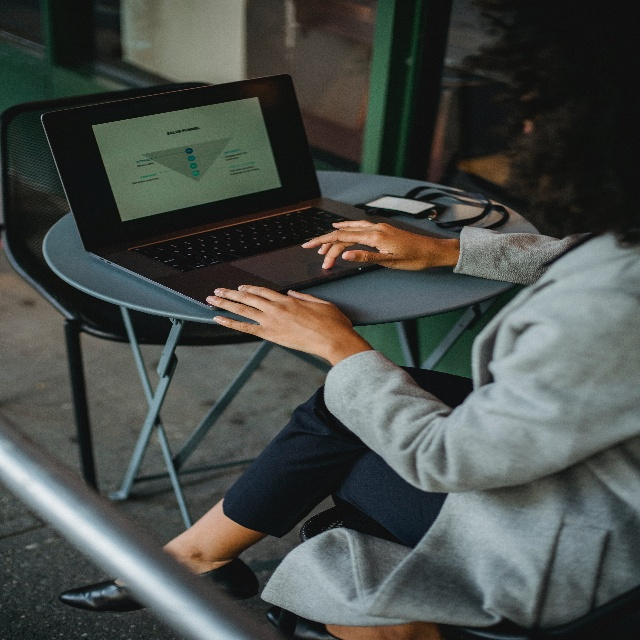Sin_guantes: (205, 283, 353, 357), (301, 218, 433, 272)
